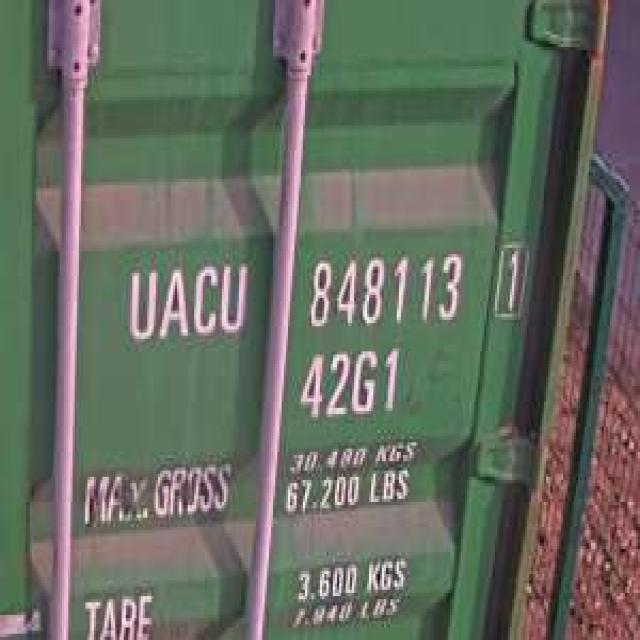dv: (489, 232, 531, 323)
owner: (119, 251, 252, 351)
serial: (299, 245, 467, 332)
size: (292, 338, 401, 426)
